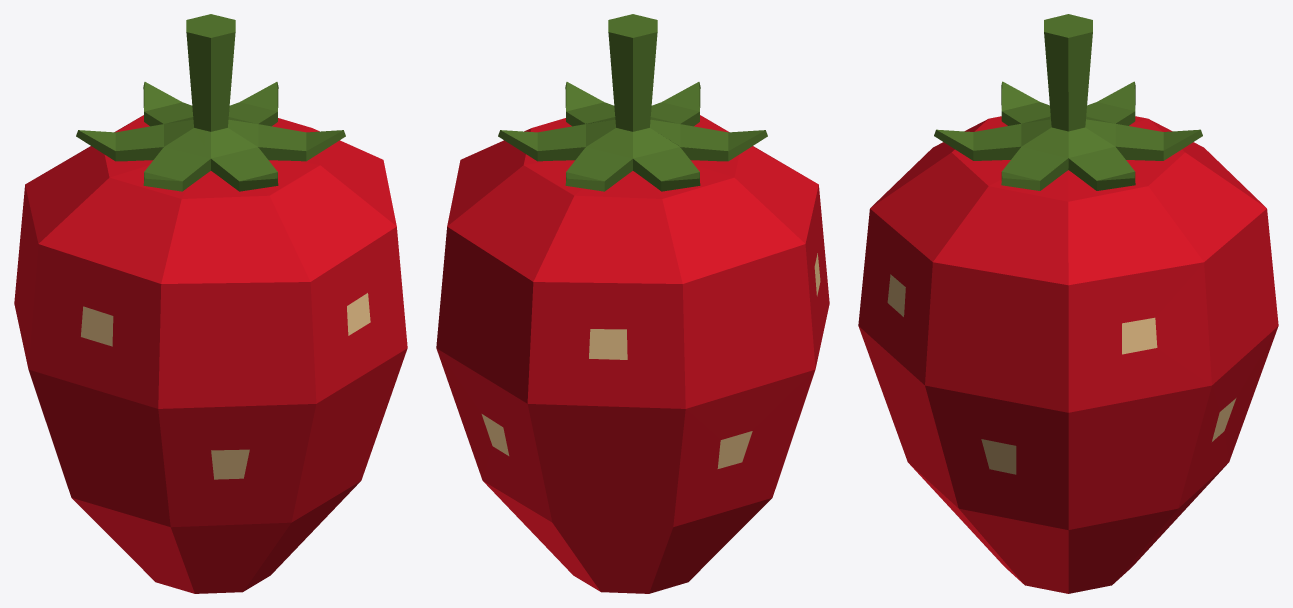
File: Strawberry.fbx
3 views of the same model, side by side, from view 1: azimuth 30°, elevation 25°; view 2: azimuth 150°, elevation 25°; view 3: azimuth 270°, elevation 25° (orthographic).
Parts seen in each view (by area): view 1: Strawberry_Piece, Strawberry_All; view 2: Strawberry_All, Strawberry_Piece; view 3: Strawberry_All, Strawberry_Piece.
Boxes of the visible parts, x1,y1,x2,y2 form: Strawberry_Piece: (28, 20, 407, 593); Strawberry_All: (14, 14, 343, 593); Strawberry_All: (436, 14, 829, 593); Strawberry_Piece: (532, 14, 824, 368); Strawberry_All: (913, 14, 1278, 593); Strawberry_Piece: (858, 14, 1068, 593).
Bounding box in the file's own units: 2.47 × 3.63 × 2.47.
